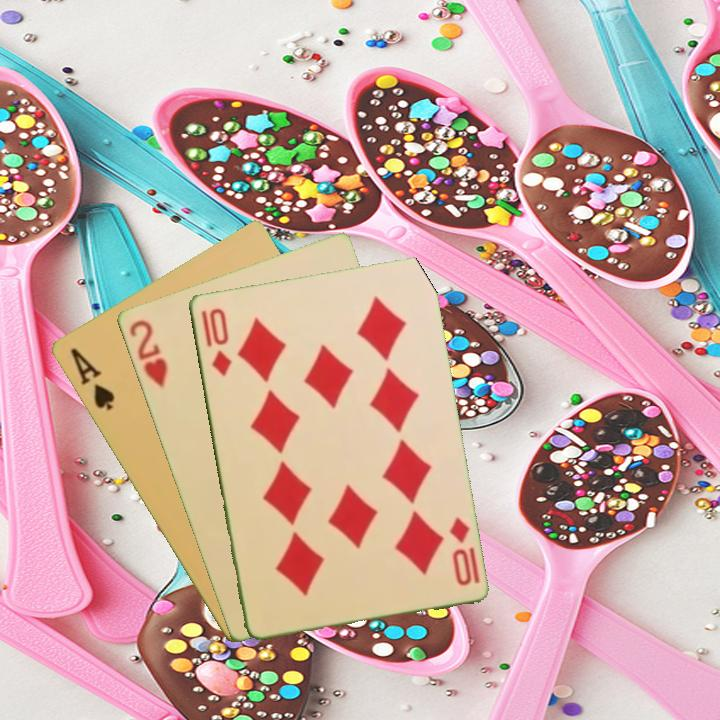10d: (197, 304, 234, 379), (445, 512, 474, 588)
2h: (125, 315, 170, 391)
As: (66, 344, 117, 414)
